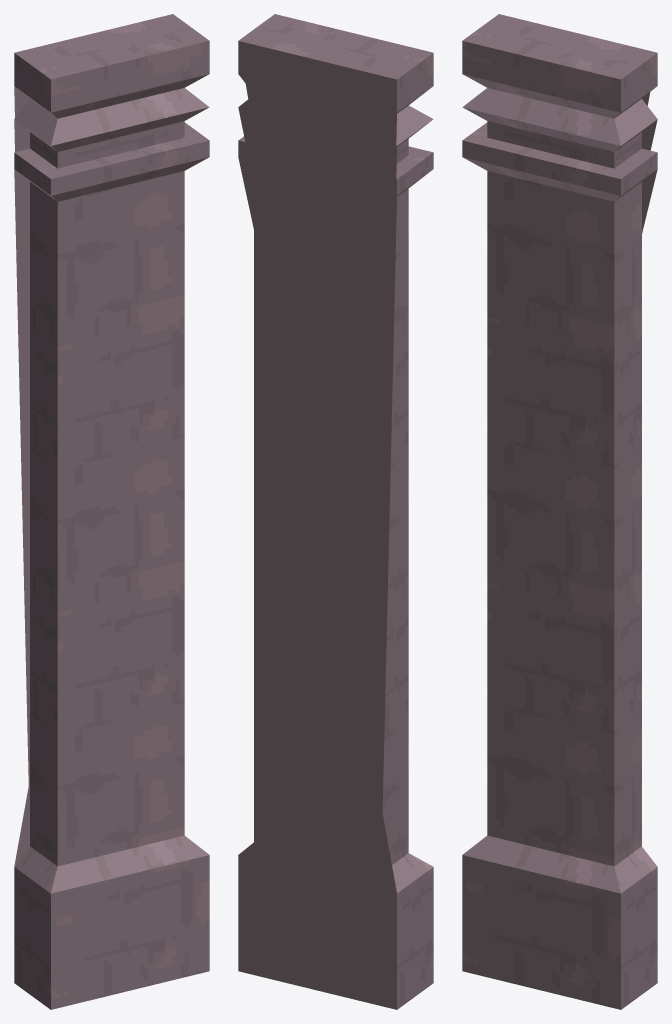
File: wandpfeiler_gang_c.glb
3 views of the same model, side by side, from view 1: azimuth 30°, elevation 25°; view 2: azimuth 150°, elevation 25°; view 3: azimuth 330°, elevation 25° (orthographic).
Parts seen in each view (by area): view 1: pfeiler_gang; view 2: pfeiler_gang; view 3: pfeiler_gang.
Boxes of the visible parts, x1,y1,x2,y2 form: pfeiler_gang: (14, 14, 209, 1009); pfeiler_gang: (238, 14, 433, 1009); pfeiler_gang: (462, 14, 657, 1009).
Bounding box in the file's own units: 0.625 × 3.5 × 0.25.
Materials: 1 (1 with a texture image).
